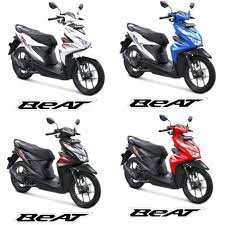motor: (122, 8, 219, 98), (11, 4, 103, 97), (119, 119, 217, 206), (8, 119, 100, 210)
